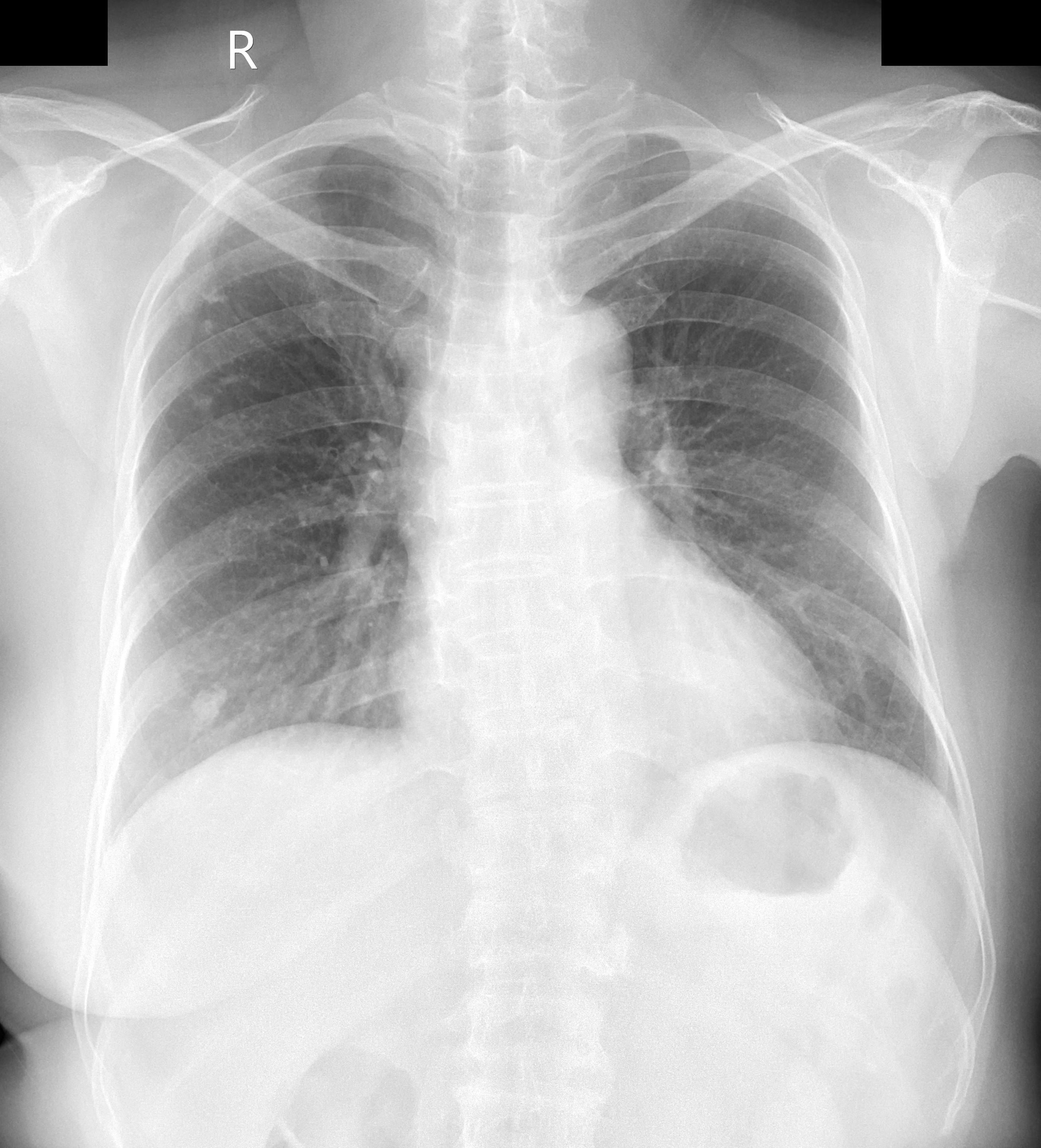Aortic enlargement: (507, 292, 636, 414)
Pulmonary fibrosis: (185, 260, 224, 411)
